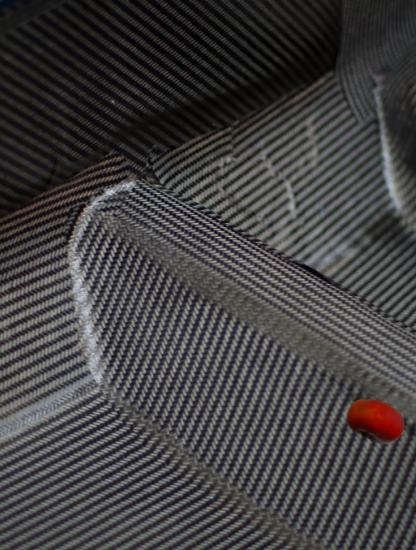Nectarine: (346, 391, 406, 451)
